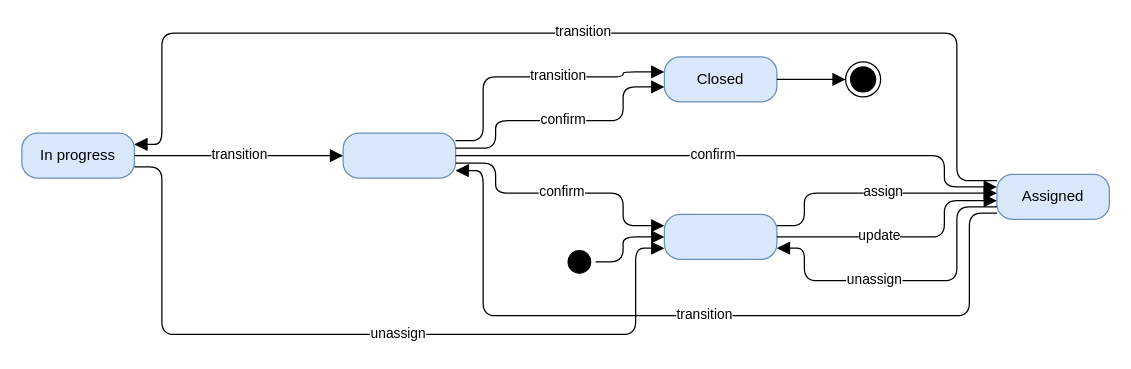
This 1131x369 diagram has some shape labels left out. The shapes that lost their labels are listed below. From the top down, each one's centre as x and y in pixels, then its label:
At (399,155): "Resolved".
At (720,236): "Submitted".
